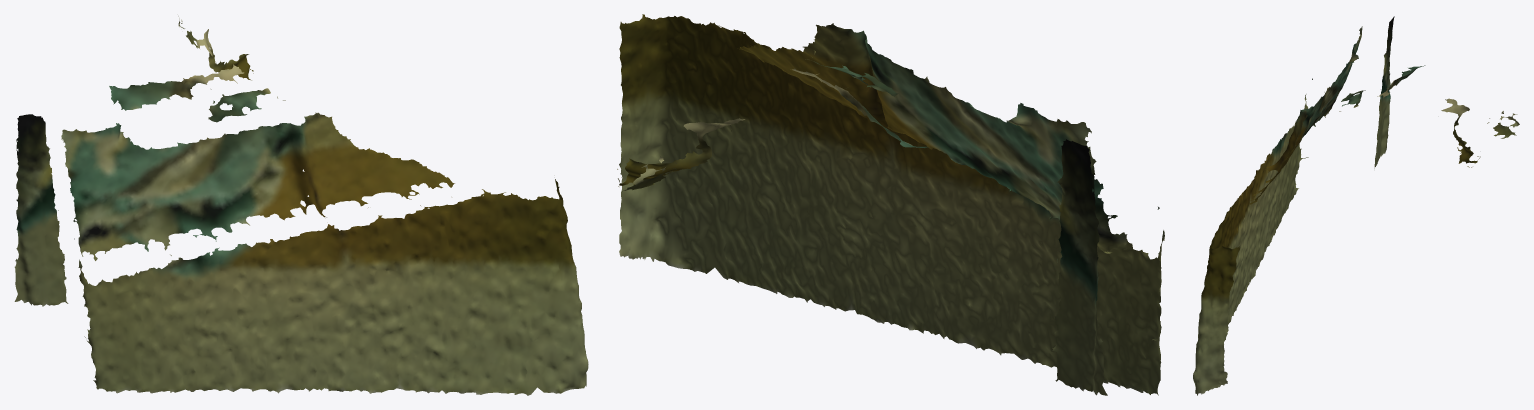
The model's file is color_model_f005_20260204_220909.obj.
3 views of the same model, side by side, from view 1: azimuth 30°, elevation 25°; view 2: azimuth 150°, elevation 25°; view 3: azimuth 270°, elevation 25° (orthographic). The views are drawn at different scales.
Size of the model in its own units: 1.84 by 1.11 by 1.5.
